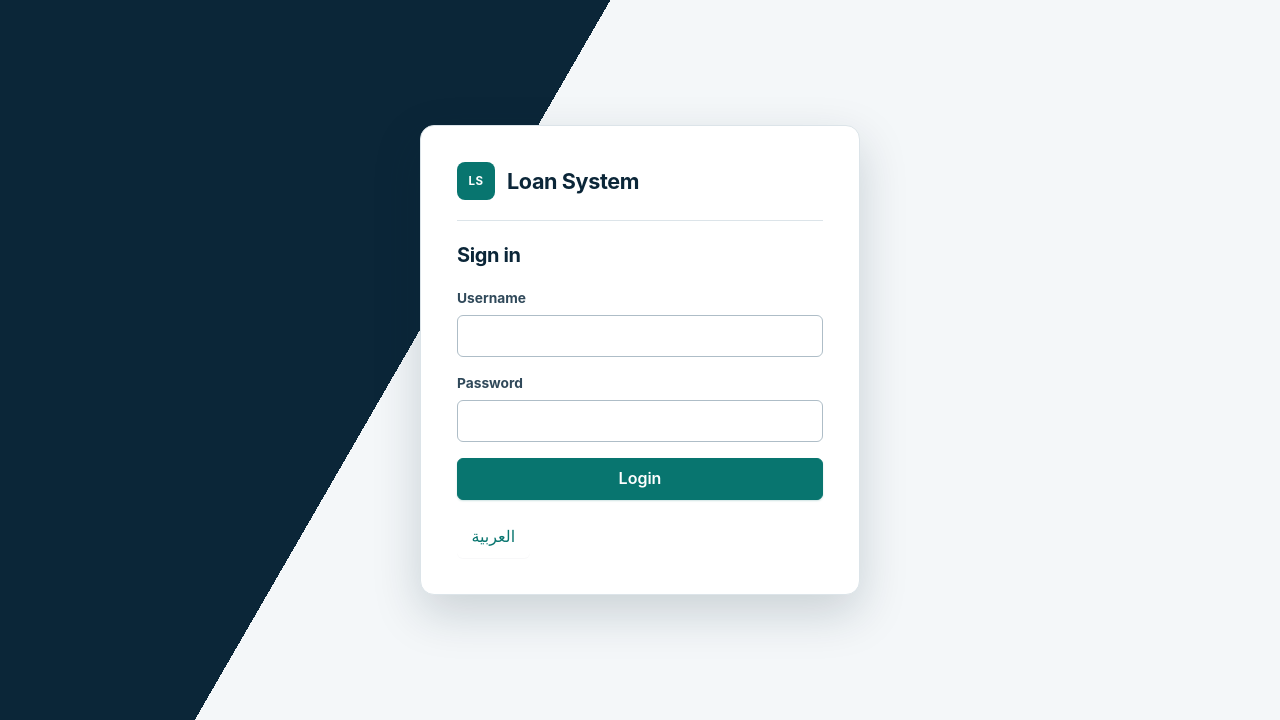
Test: identity UI › logs in and renders authenticated shell
The width and height of the screenshot is (1280, 720).
Type "admin" into the field labelled "Username" at (640, 336), box [457, 315, 823, 357]
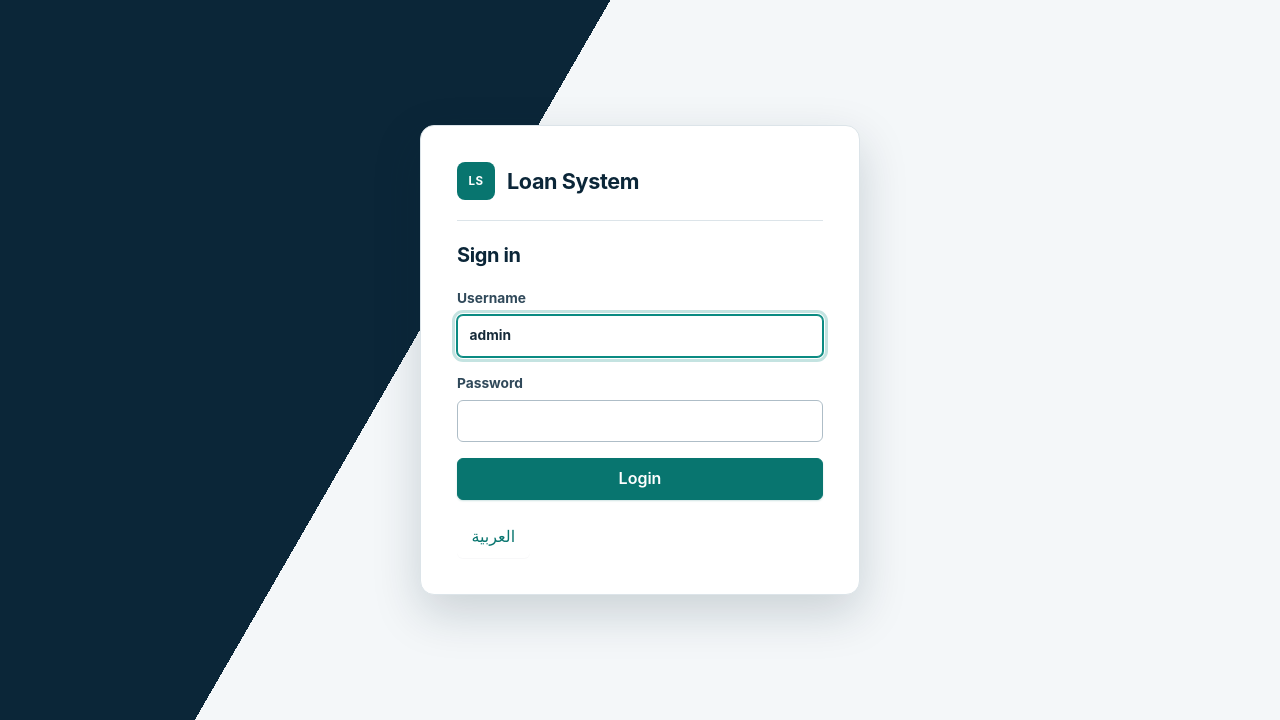
Type "password12345" into the password field labelled "Password" at (640, 420), box [457, 400, 823, 442]
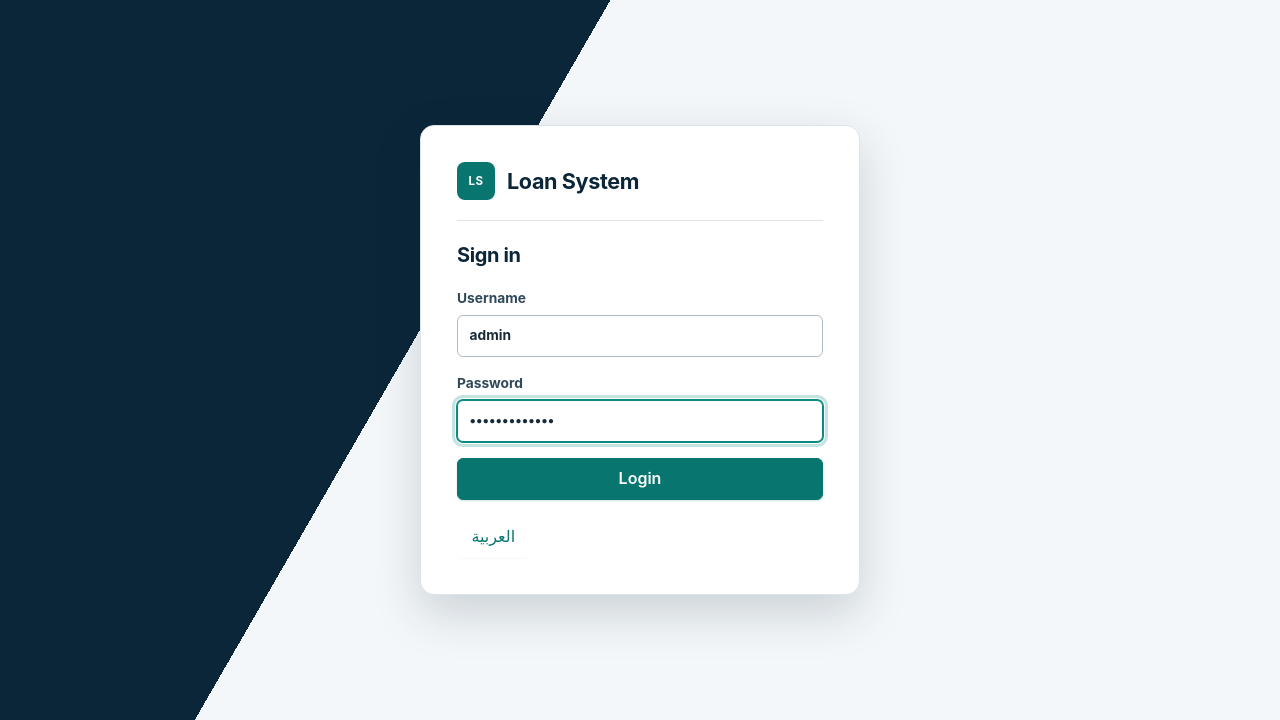
Click the button "Login" at (640, 478), box [457, 458, 823, 500]
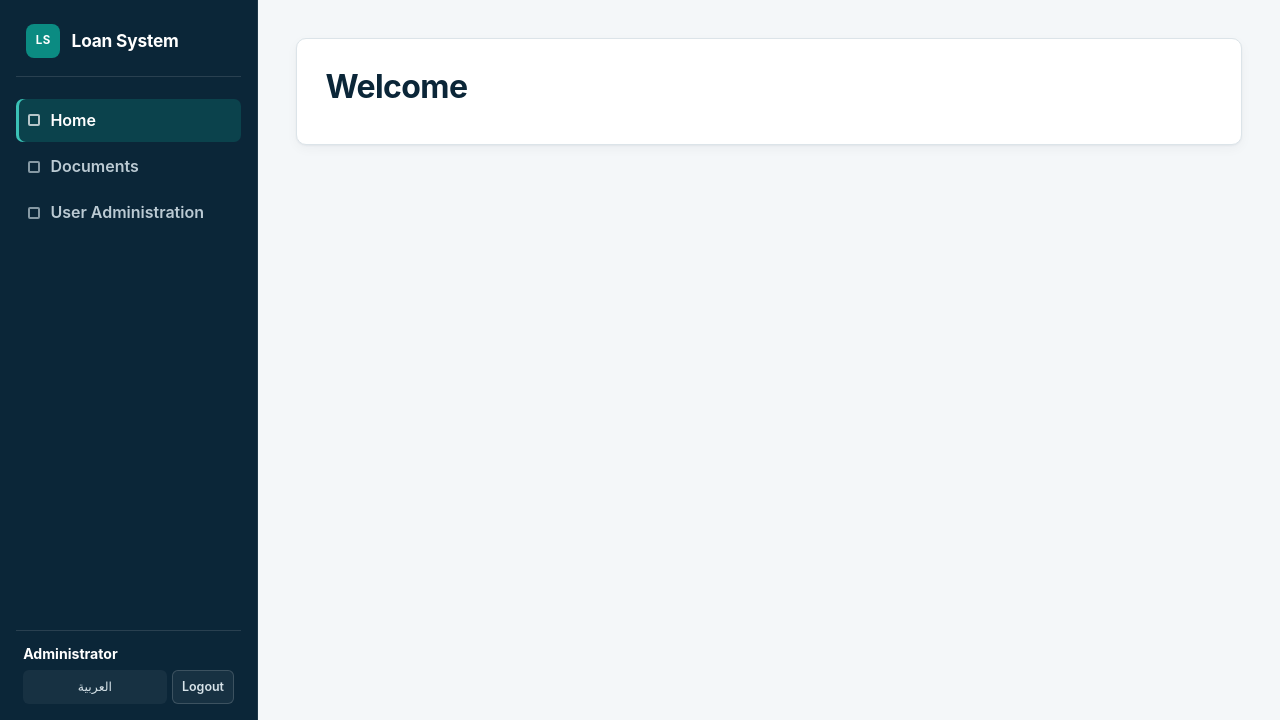
Expected: the text "Administrator" is shown, [23, 645, 118, 662]
Expected: the button "User Administration" is shown, [16, 191, 241, 234]
